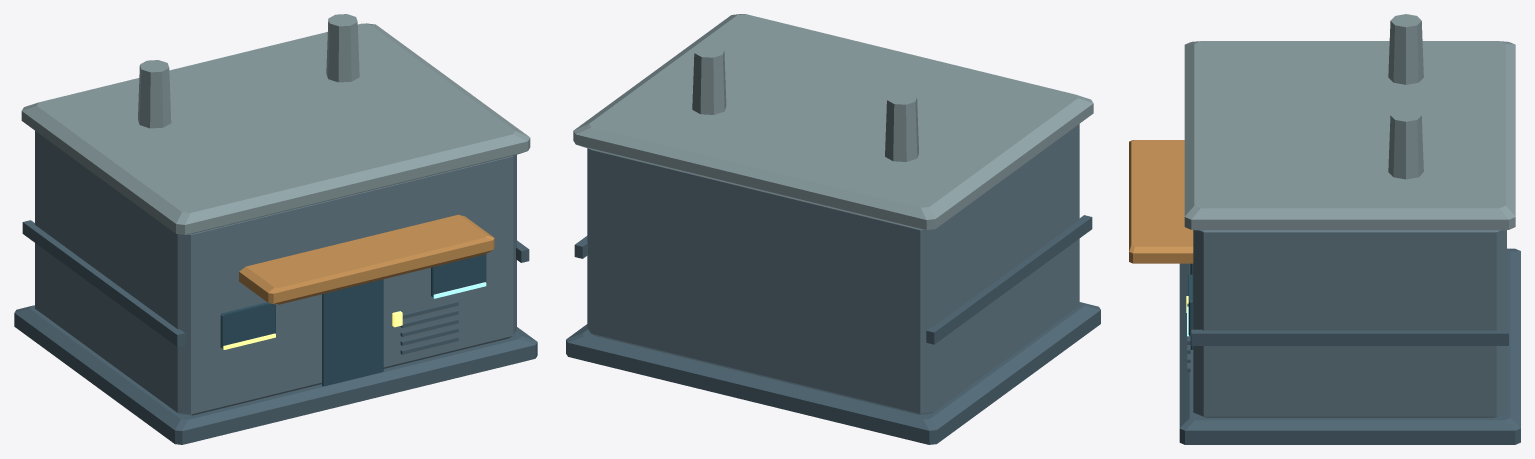
The model's file is SM_ELY_BLD_001_Workshop.glb.
3 views of the same model, side by side, from view 1: azimuth 30°, elevation 25°; view 2: azimuth 150°, elevation 25°; view 3: azimuth 270°, elevation 25° (orthographic). The views are drawn at different scales.
Parts seen in each view (by area): view 1: SM_ELY_BLD_001_Workshop; view 2: SM_ELY_BLD_001_Workshop; view 3: SM_ELY_BLD_001_Workshop.
Part boxes in pixels (x1=…): SM_ELY_BLD_001_Workshop: x1=14, y1=14, x2=537, y2=444; SM_ELY_BLD_001_Workshop: x1=566, y1=14, x2=1100, y2=444; SM_ELY_BLD_001_Workshop: x1=1129, y1=14, x2=1520, y2=444.
Size of the model in its own units: 3.85 by 2.87 by 3.5.
